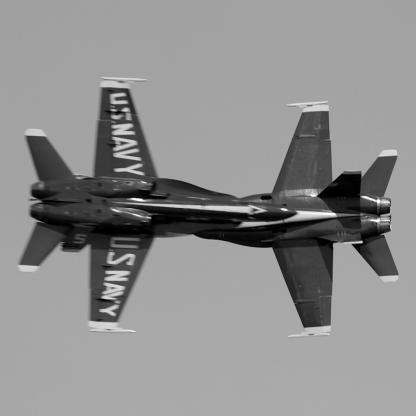F18: (18, 76, 301, 335), (195, 100, 400, 340)
